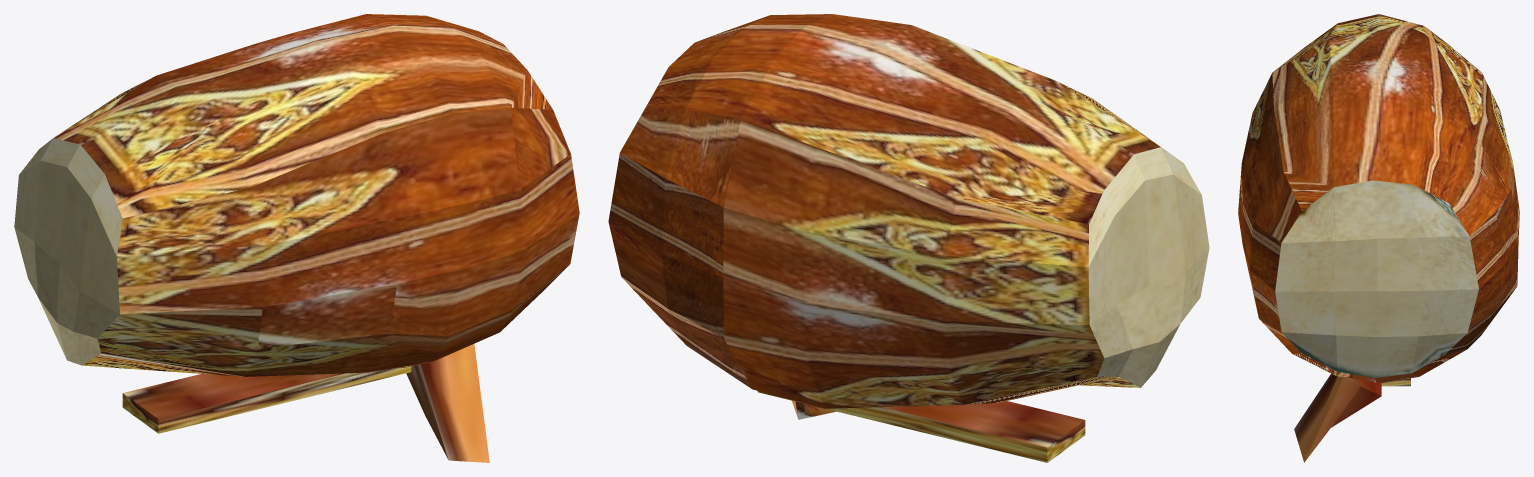
Rendered from jawa_kendang.glb.
3 renders of one model, left to right at view 1: azimuth 30°, elevation 25°; view 2: azimuth 150°, elevation 25°; view 3: azimuth 270°, elevation 25°, orthographic. The views are drawn at different scales.
Visible parts, largest first — view 1: Cube_0, Cube.002_3, Cube.001_2; view 2: Cube_0, Cube.002_3; view 3: Cube_0, Cube.001_2.
Part boxes in pixels (<box>): Cube_0: <box>14,14,579,376</box>; Cube.002_3: <box>122,366,411,433</box>; Cube.001_2: <box>406,344,489,462</box>; Cube_0: <box>608,14,1209,408</box>; Cube.002_3: <box>757,391,1085,462</box>; Cube_0: <box>1238,14,1519,382</box>; Cube.001_2: <box>1294,373,1381,462</box>.
Size of the model in its own units: 4.07 by 3.51 by 2.64.
Materials: 5 (4 with a texture image).
